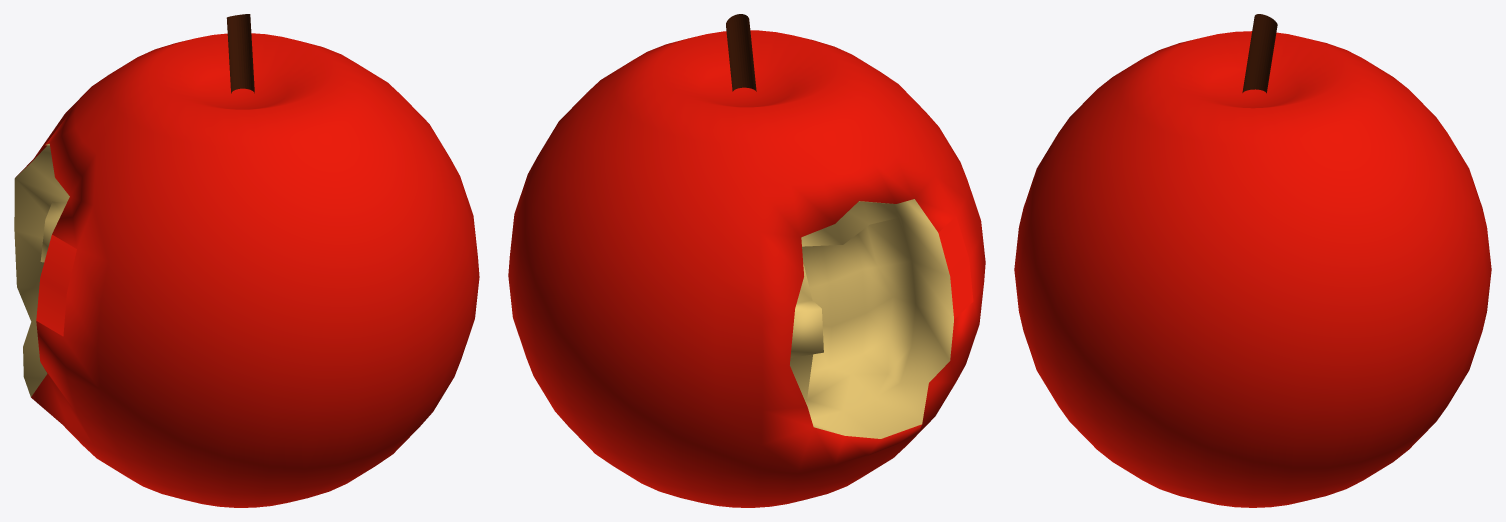
The model's file is apple.fbx.
The picture shows the model from 3 angles, left to right: view 1: azimuth 30°, elevation 25°; view 2: azimuth 150°, elevation 25°; view 3: azimuth 270°, elevation 25°; orthographic projection.
Parts seen in each view (by area): view 1: 球体; view 2: 球体; view 3: 球体.
Part boxes in pixels (<box>): 球体: <box>14,14,479,507</box>; 球体: <box>508,14,985,507</box>; 球体: <box>1014,14,1491,507</box>.
Bounding box in the file's own units: 10 × 10.78 × 10.
